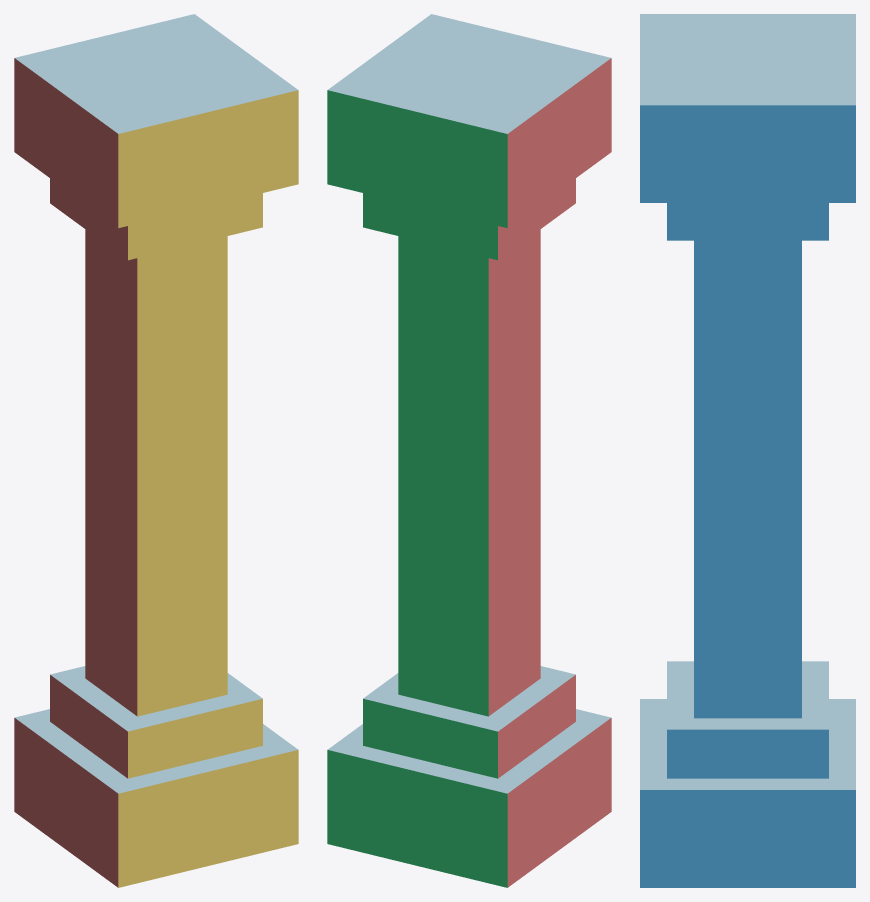
Rendered from hall_pillar.fbx.
3 views of the same model, side by side, from view 1: azimuth 30°, elevation 25°; view 2: azimuth 150°, elevation 25°; view 3: azimuth 270°, elevation 25° (orthographic). The views are drawn at different scales.
Parts seen in each view (by area): view 1: cube_12, cube_4, cube_11, cube_10, cube_1, cube_17, cube, cube_16, cube_13, cube_15, cube_6, cube_2 (+4 smaller); view 2: cube_17, cube_7, cube_16, cube_15, cube_6, cube_12, cube_5, cube_11, cube_18, cube_10, cube_1, cube_8 (+4 smaller); view 3: cube_4, cube_7, cube_1, cube_6, cube, cube_5, cube_2, cube_8, cube_11, cube_16, cube_3, cube_9 (+4 smaller).
Boxes of the visible parts, x1,y1,x2,y2 form: cube_12: (111,247,182,716); cube_4: (182,236,227,705); cube_11: (66,74,208,228); cube_10: (66,750,208,887); cube_1: (157,52,298,206); cube_17: (85,229,111,696); cube: (196,724,298,865); cube_16: (14,36,155,189); cube_13: (89,697,195,778); cube_15: (14,709,88,849); cube_6: (105,14,245,73); cube_2: (183,673,262,762); cube_17: (443,247,514,716); cube_7: (398,236,443,705); cube_16: (417,74,559,228); cube_15: (417,750,559,887); cube_6: (327,52,468,206); cube_12: (514,229,540,696); cube_5: (327,724,429,865); cube_11: (470,36,611,189); cube_18: (430,697,536,778); cube_10: (537,709,611,849); cube_1: (380,14,520,73); cube_8: (363,673,442,762); cube_4: (694,240,747,718); cube_7: (748,240,801,718); cube_1: (640,59,747,202); cube_6: (748,59,855,202); cube: (640,744,747,887); cube_5: (748,744,855,887); cube_2: (667,695,747,778); cube_8: (748,695,828,778); cube_11: (640,14,747,59); cube_16: (748,14,855,59); cube_3: (667,203,747,240); cube_9: (748,203,828,240).
Size of the model in its own units: 25 by 100 by 25.
1 material, 1 textured.
